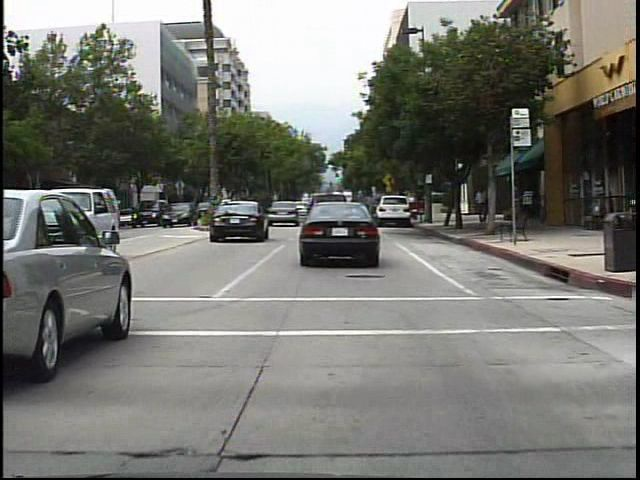person: (473, 185, 493, 229)
